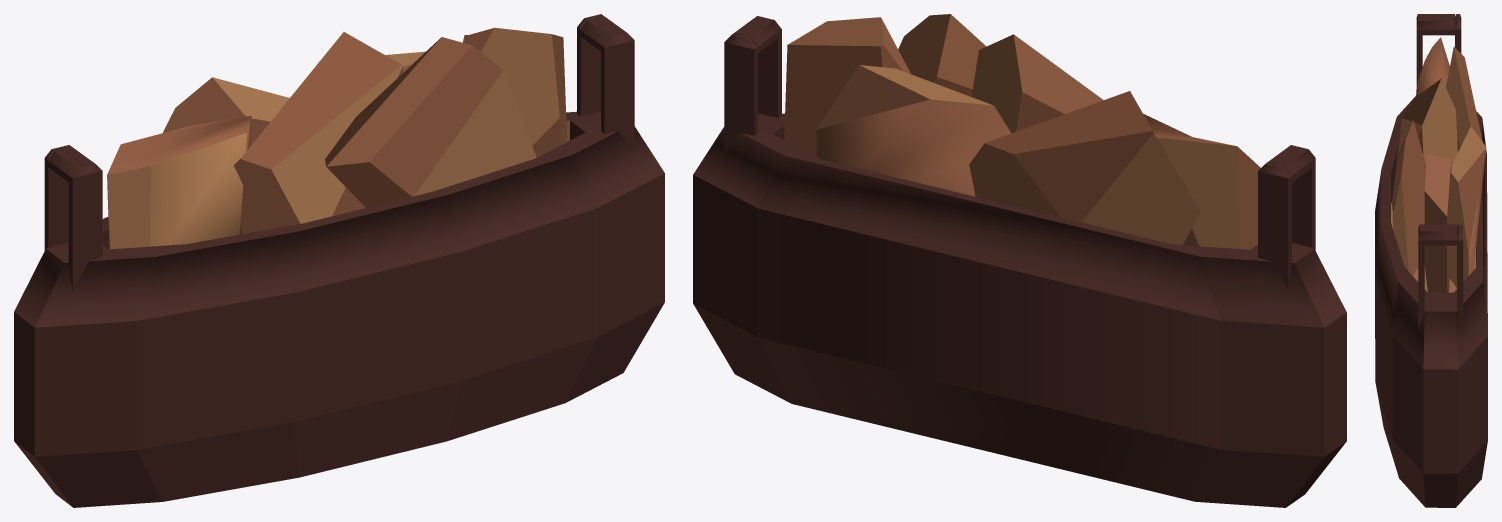
The model's file is icon_iron_ore.fbx.
3 renders of one model, left to right at view 1: azimuth 30°, elevation 25°; view 2: azimuth 150°, elevation 25°; view 3: azimuth 270°, elevation 25°, orthographic. The views are drawn at different scales.
Parts seen in each view (by area): view 1: icon_iron_ore; view 2: icon_iron_ore; view 3: icon_iron_ore.
Part boxes in pixels (<box>): icon_iron_ore: <box>14,14,664,507</box>; icon_iron_ore: <box>693,14,1346,507</box>; icon_iron_ore: <box>1375,14,1487,507</box>.
Size of the model in its own units: 47.76 by 28.87 by 9.15.
